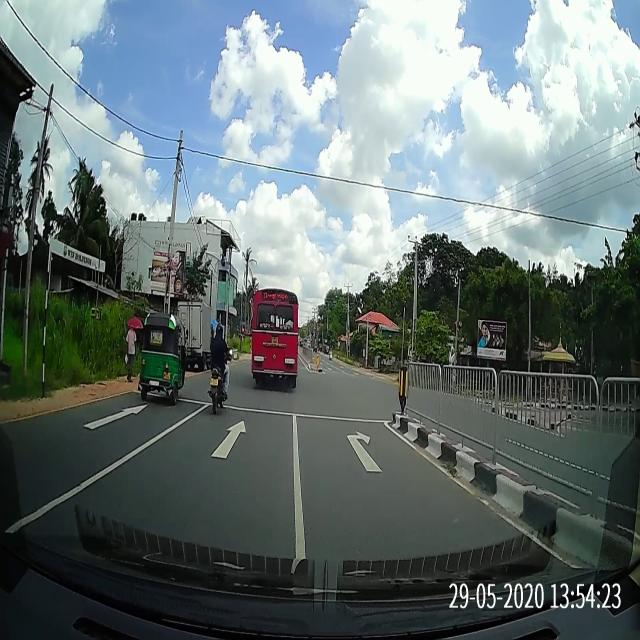Strelka vpered: (80, 403, 149, 432), (209, 419, 247, 461)
Strelka vpravo: (344, 430, 385, 475)
